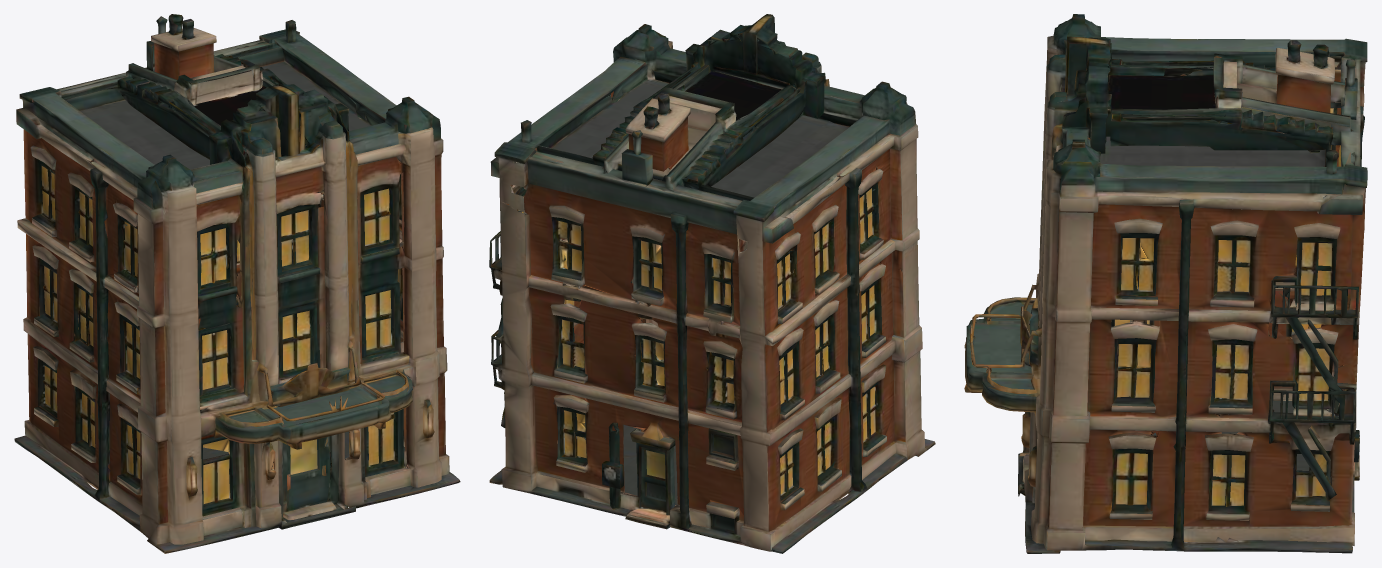
Rendered from candidate.glb.
3 views of the same model, side by side, from view 1: azimuth 30°, elevation 25°; view 2: azimuth 150°, elevation 25°; view 3: azimuth 270°, elevation 25° (orthographic). The views are drawn at different scales.
Visible parts, largest first — view 1: expansion__hotel_3__native_mobile; view 2: expansion__hotel_3__native_mobile; view 3: expansion__hotel_3__native_mobile.
Boxes of the visible parts, left/top/right/bottom form: expansion__hotel_3__native_mobile: left=14, top=14, right=460, bottom=553; expansion__hotel_3__native_mobile: left=489, top=14, right=935, bottom=553; expansion__hotel_3__native_mobile: left=964, top=14, right=1367, bottom=553.
Size of the model in its own units: 0.7538 by 1 by 0.829.
1 material, 1 textured.
